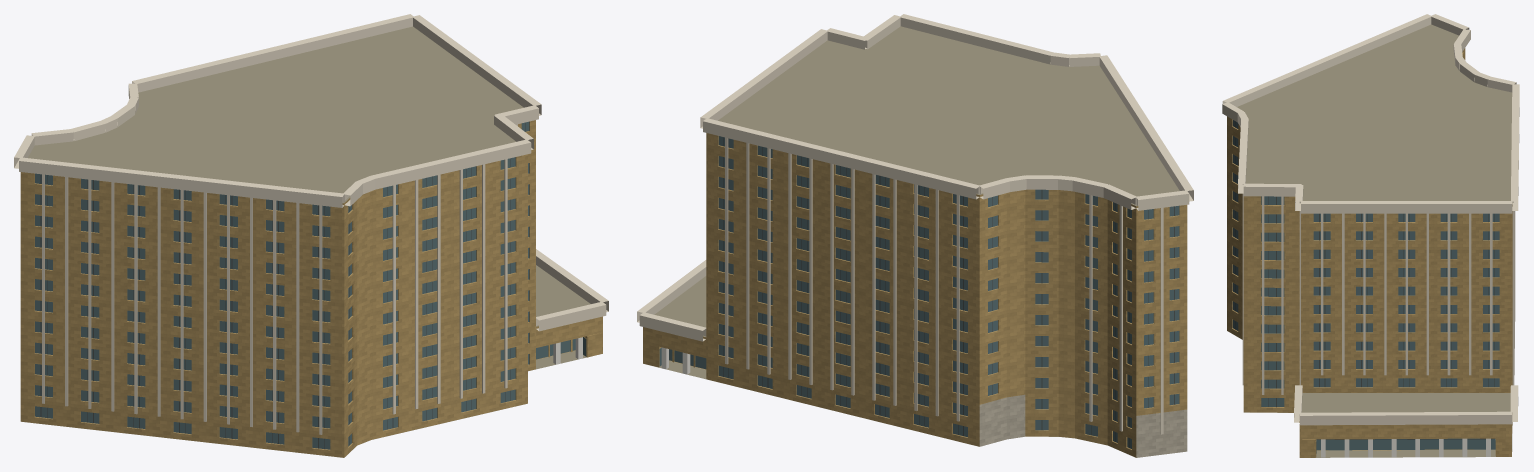
3 views of the same model, side by side, from view 1: azimuth 30°, elevation 25°; view 2: azimuth 150°, elevation 25°; view 3: azimuth 270°, elevation 25° (orthographic). The views are drawn at different scales.
Visible parts, largest first — view 1: science__wall, science__roof, science__trim, science__glass, science__frame; view 2: science__wall, science__roof, science__trim, science__glass, science__base, science__frame; view 3: science__wall, science__roof, science__trim, science__glass, science__frame, science__column.
Boxes of the visible parts, bbox=[...] form: science__wall: bbox=[20, 120, 602, 457]; science__roof: bbox=[21, 26, 602, 457]; science__trim: bbox=[14, 14, 608, 434]; science__glass: bbox=[35, 121, 586, 449]; science__frame: bbox=[40, 123, 525, 448]; science__wall: bbox=[643, 133, 1187, 457]; science__roof: bbox=[646, 26, 1185, 457]; science__trim: bbox=[637, 14, 1193, 434]; science__glass: bbox=[659, 136, 1179, 448]; science__base: bbox=[979, 394, 1187, 457]; science__frame: bbox=[723, 137, 1174, 448]; science__wall: bbox=[1227, 48, 1512, 457]; science__roof: bbox=[1237, 24, 1512, 457]; science__trim: bbox=[1222, 14, 1519, 425]; science__glass: bbox=[1232, 52, 1499, 453]; science__frame: bbox=[1235, 121, 1495, 439]; science__column: bbox=[1321, 434, 1512, 457].
Size of the model in its own units: 96.84 by 47.22 by 55.81.
8 materials, 2 textured.
